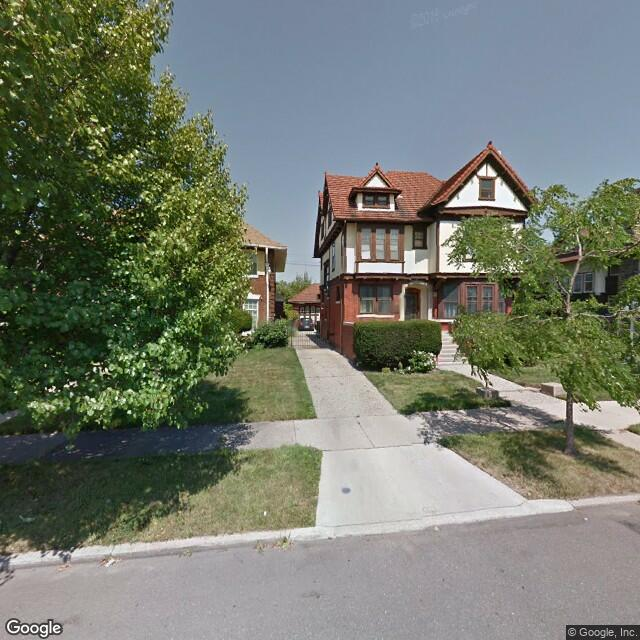litter: (18, 515, 41, 521), (257, 510, 269, 521), (103, 558, 115, 567)
